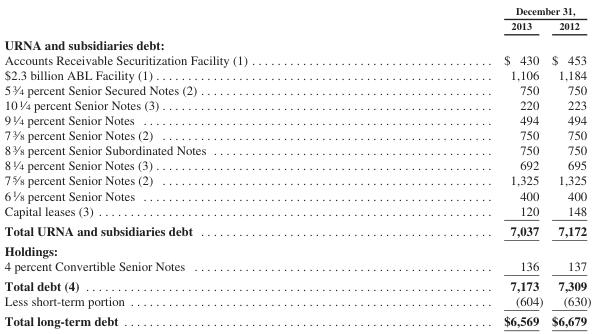table: (3, 4, 590, 327)
table column: (3, 4, 375, 327), (375, 4, 546, 327), (546, 4, 590, 327)
table column header: (3, 4, 590, 34)
table projected row header: (3, 34, 590, 52), (3, 240, 590, 257)
table row: (3, 220, 590, 240), (3, 34, 590, 52), (3, 257, 590, 275), (3, 275, 590, 293), (3, 186, 590, 203), (3, 203, 590, 220), (3, 240, 590, 257), (3, 293, 590, 310), (3, 310, 590, 327), (3, 18, 590, 34), (3, 52, 590, 67), (3, 81, 590, 96), (3, 96, 590, 111), (3, 111, 590, 126), (3, 126, 590, 141), (3, 141, 590, 156), (3, 156, 590, 171), (3, 171, 590, 186), (3, 4, 590, 18), (3, 67, 590, 81)
table spanning cell: (375, 4, 590, 18)
